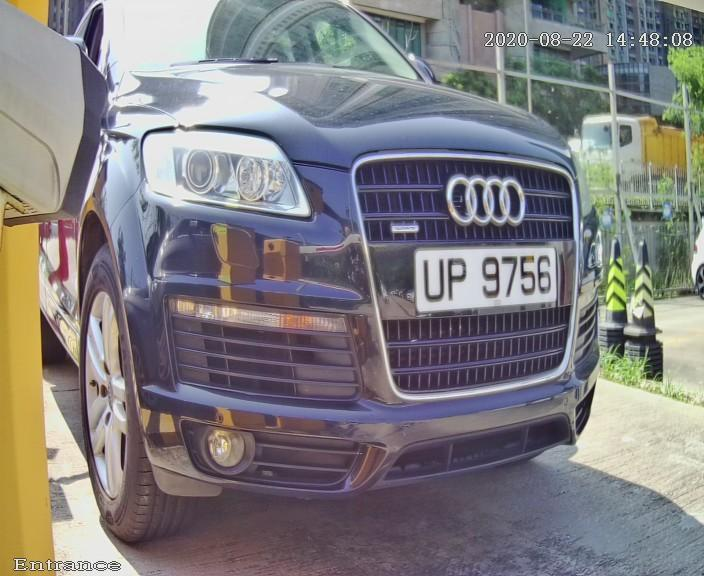Car: (38, 6, 626, 566)
License Plate: (401, 218, 579, 329)
